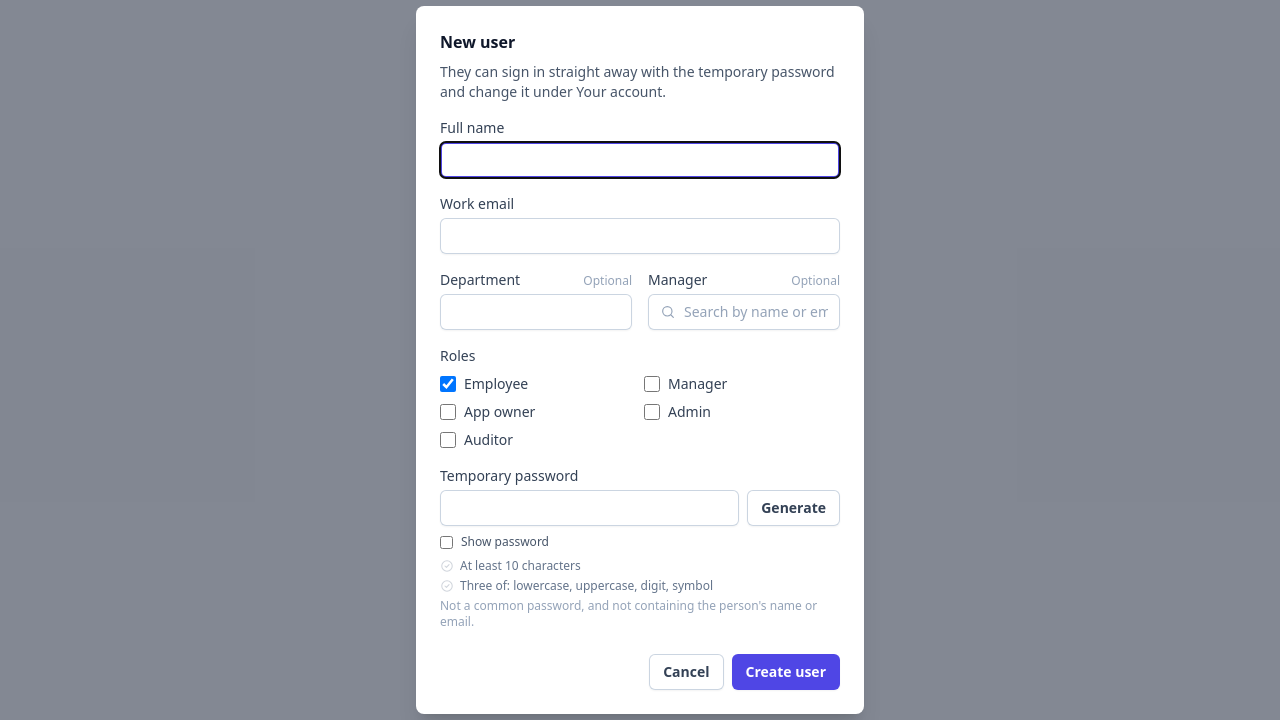
Test case: CreateUserModal › generates a strong temporary password and creates the user
The image size is (1280, 720).
Later steps or results of the test are not shown.
Type "Nina New" into the field labelled "Full name" at [640, 160], box [440,142,840,178]
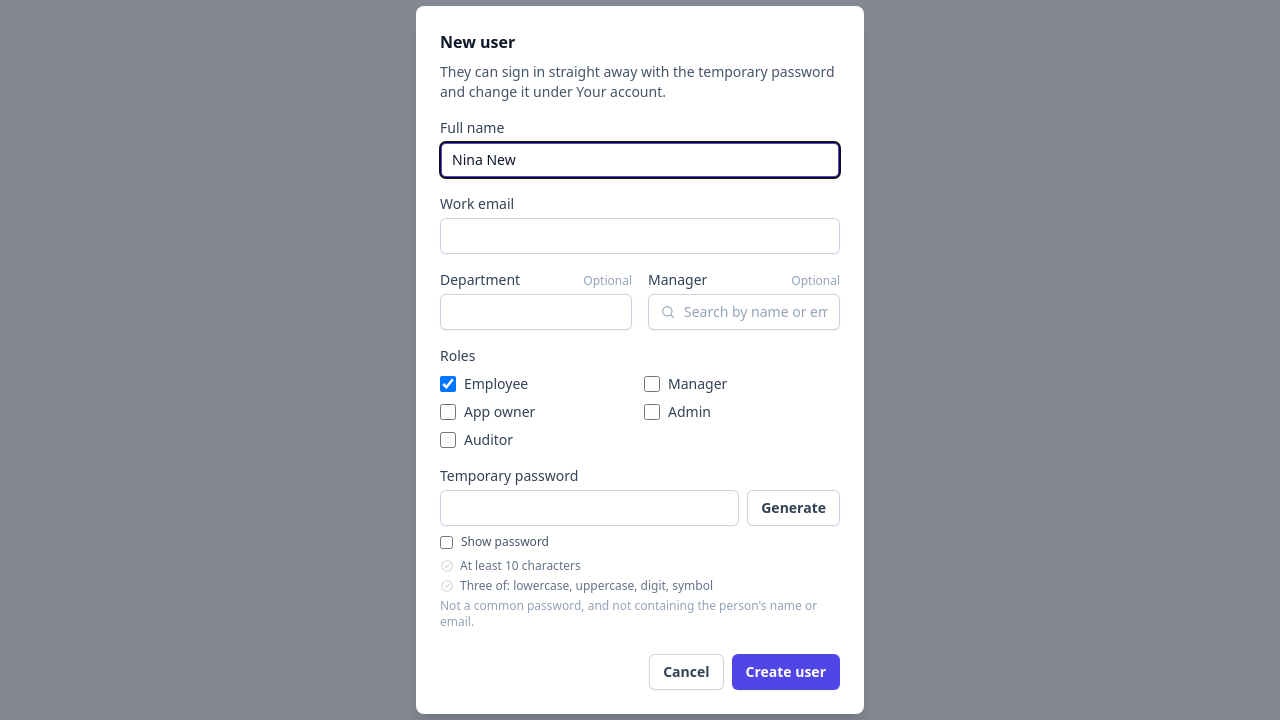
Type "nina@example.com" into the field labelled "Work email" at [640, 236], box [440,218,840,254]
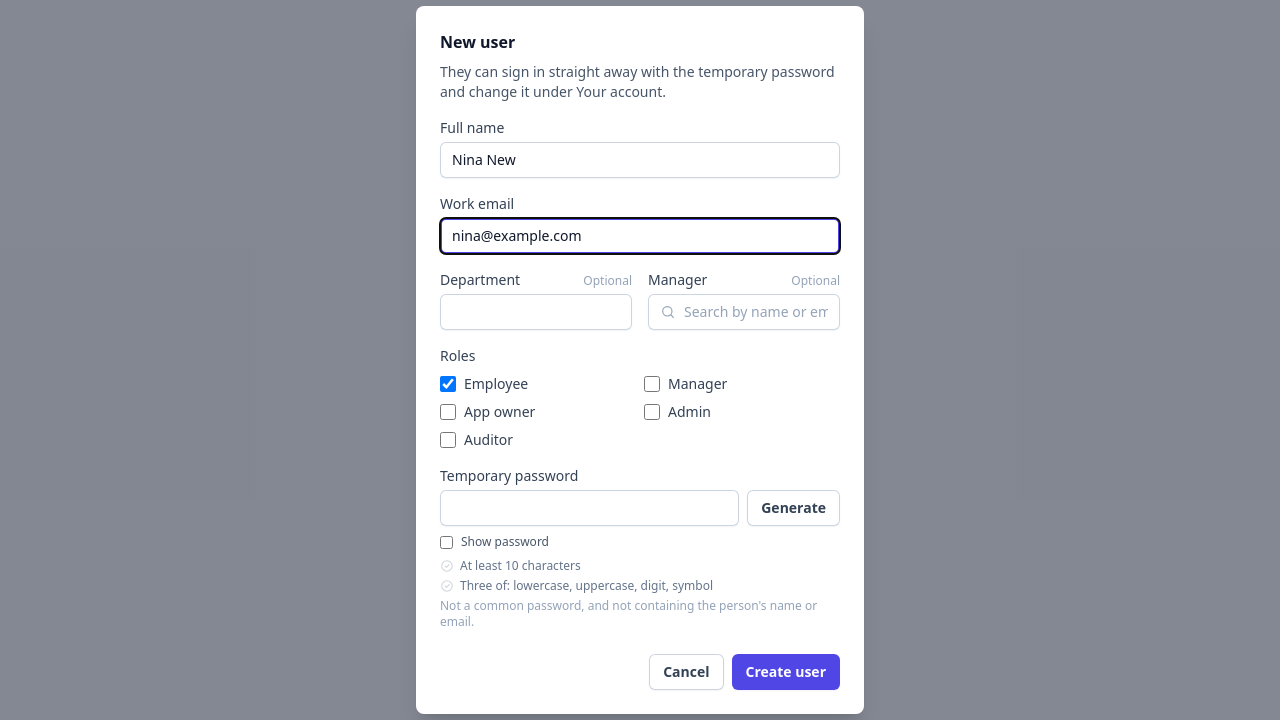
Click the checkbox labelled "Manager" at [652, 384], box [644,376,660,392]
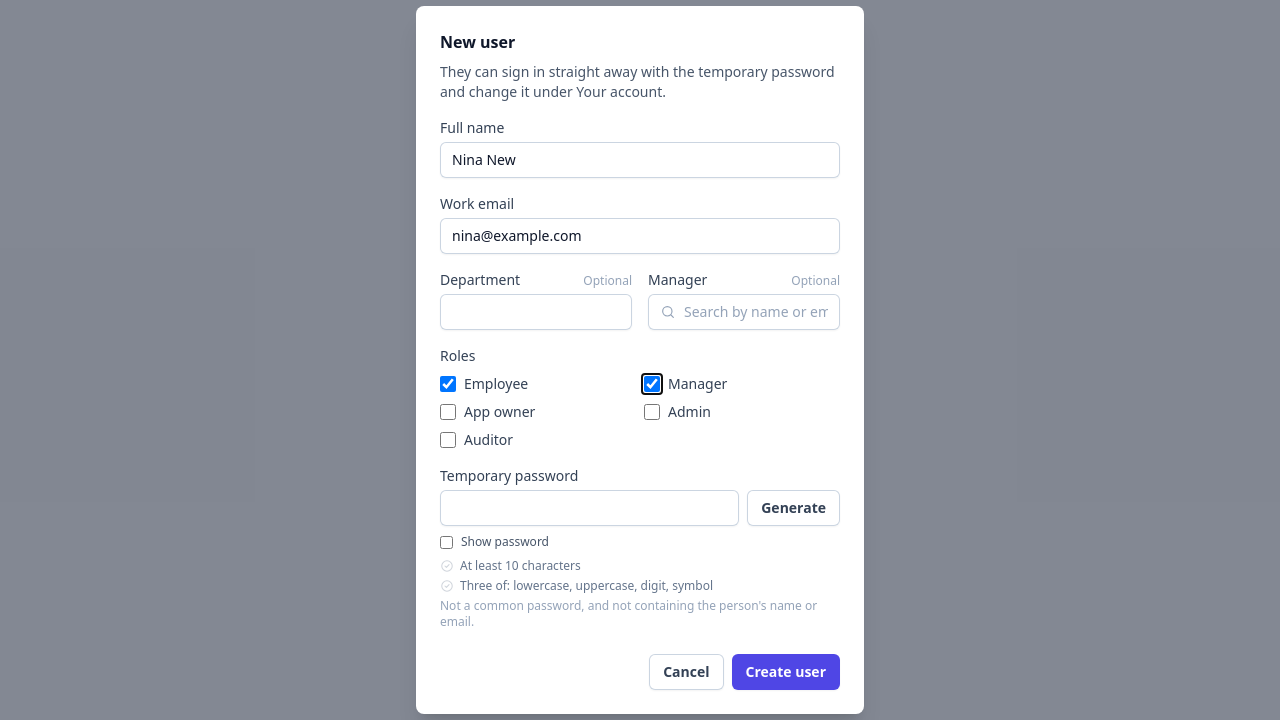
Click the button "Generate" at [794, 508], box [747,490,840,526]
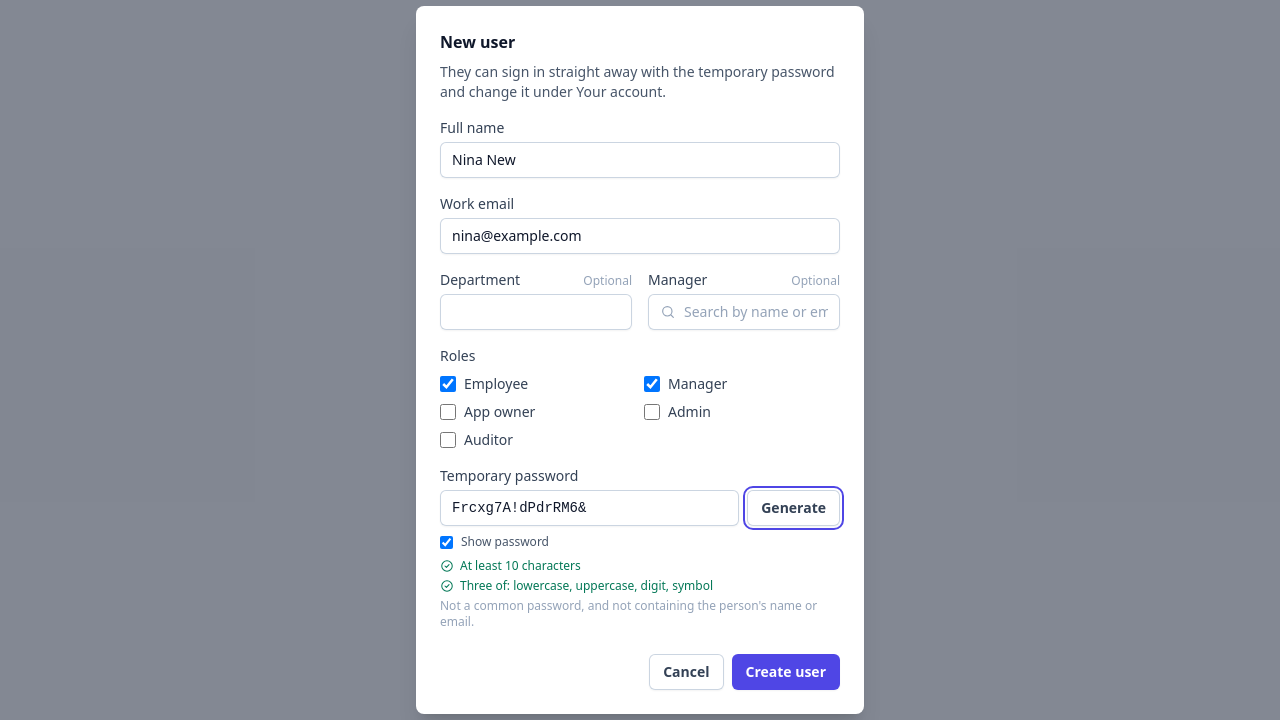
Result: the field labelled "Temporary password" shows its text at [440,490,739,526]
